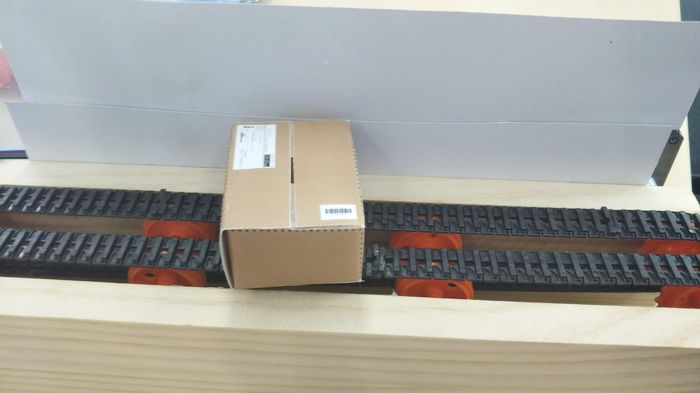box1: (209, 112, 374, 293)
